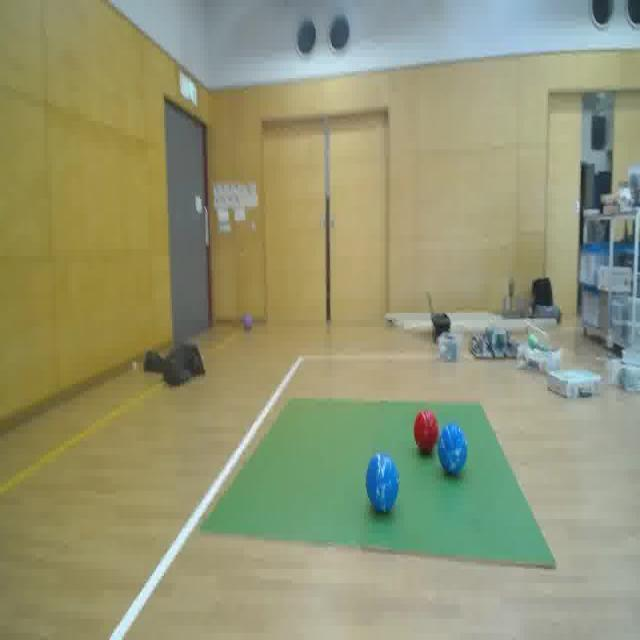blue_ball: (364, 448, 402, 522), (438, 420, 469, 477)
purple_ball: (240, 308, 255, 335)
red_ball: (412, 410, 438, 456)
